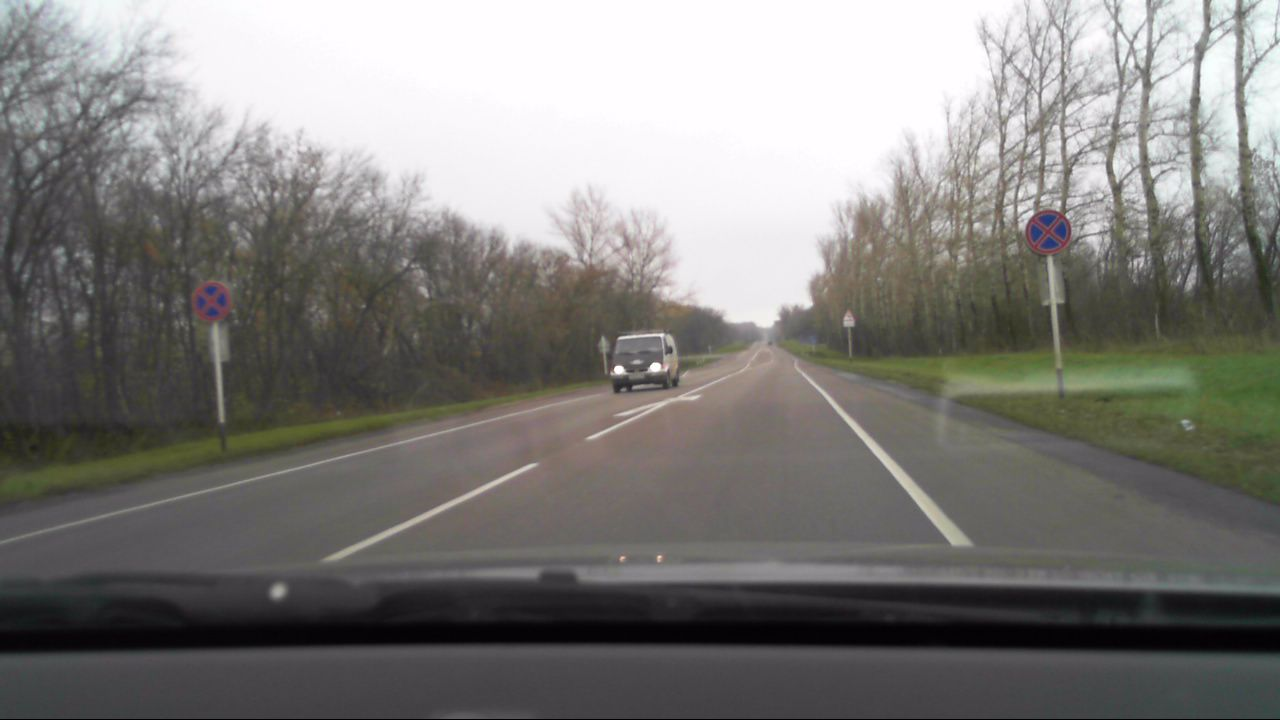No Parking: (190, 279, 233, 322)
